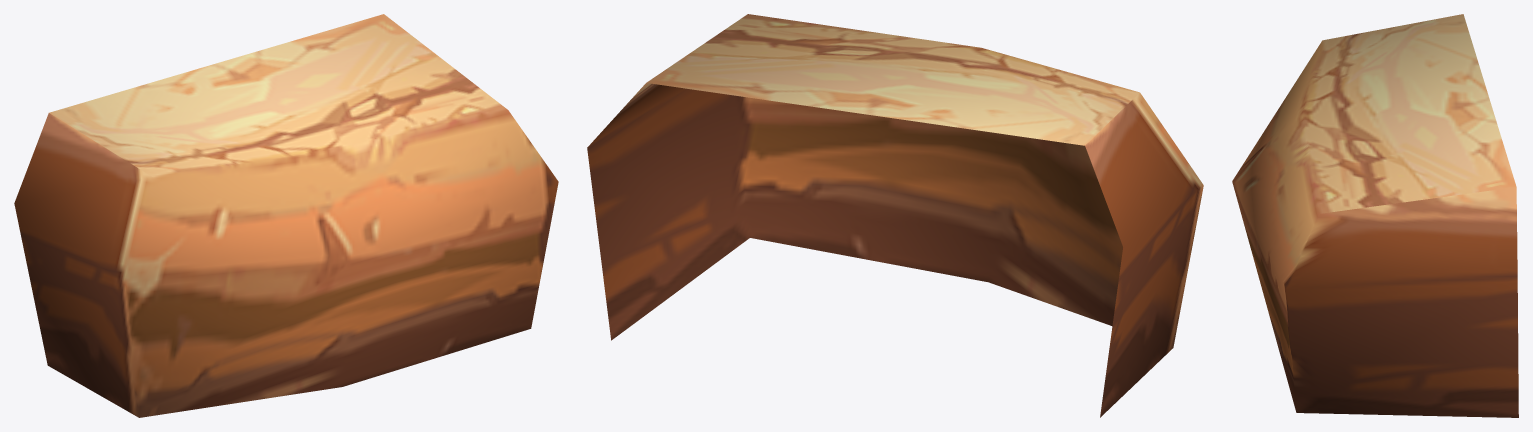
Rendered from Chapter1Scene1Model10Lod.FBX.
3 views of the same model, side by side, from view 1: azimuth 30°, elevation 25°; view 2: azimuth 150°, elevation 25°; view 3: azimuth 270°, elevation 25° (orthographic). The views are drawn at different scales.
Visible parts, largest first — view 1: Chapter1Scene1Model10Lod; view 2: Chapter1Scene1Model10Lod; view 3: Chapter1Scene1Model10Lod.
Part boxes in pixels (left/top/right/bottom): Chapter1Scene1Model10Lod: left=14, top=14, right=558, bottom=417; Chapter1Scene1Model10Lod: left=587, top=14, right=1203, bottom=417; Chapter1Scene1Model10Lod: left=1232, top=14, right=1518, bottom=417.
Bounding box in the file's own units: 101 × 60.84 × 53.33.
